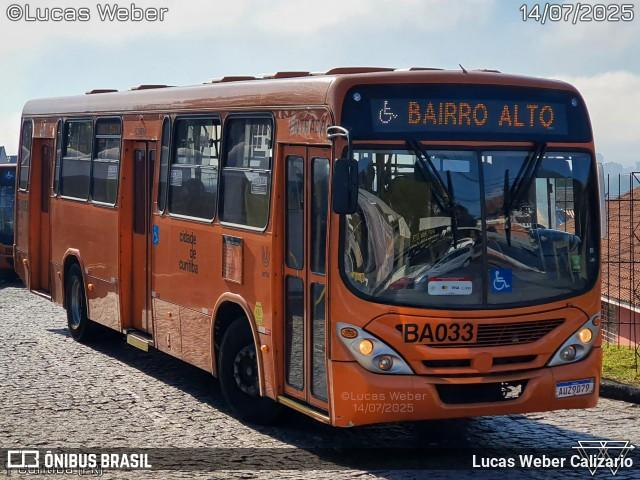BAIRRO ALTO: (402, 99, 557, 135)
